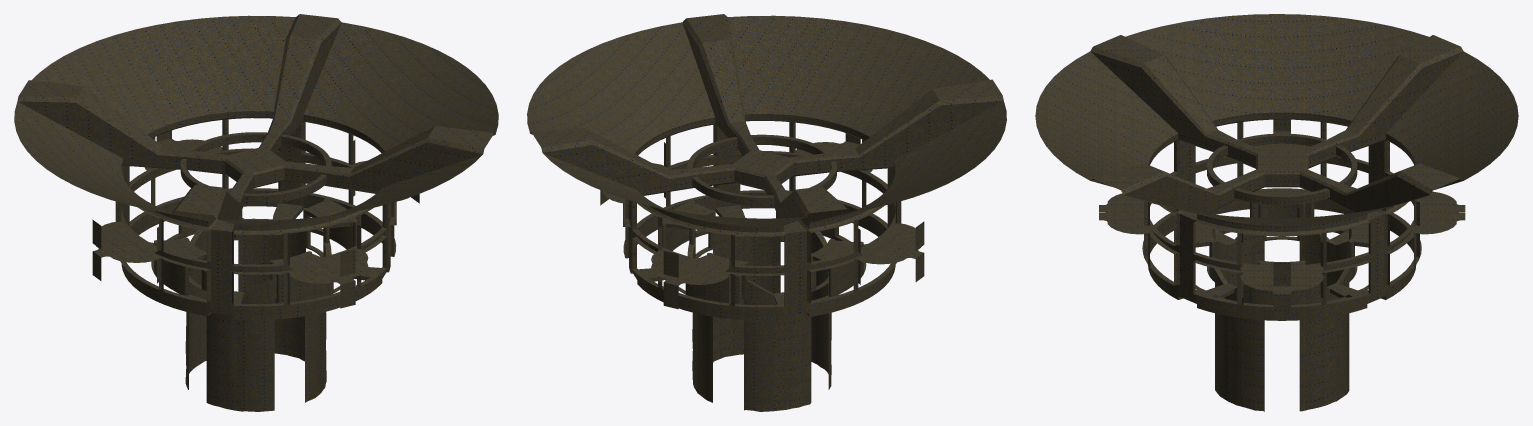
The model's file is Dragonfly_BarrelBattle_Metal.fbx.
3 views of the same model, side by side, from view 1: azimuth 30°, elevation 25°; view 2: azimuth 150°, elevation 25°; view 3: azimuth 270°, elevation 25° (orthographic).
Visible parts, largest first — view 1: Dragonfly_BarrelBattle_Metal; view 2: Dragonfly_BarrelBattle_Metal; view 3: Dragonfly_BarrelBattle_Metal.
Part boxes in pixels (left/top/right/bottom): Dragonfly_BarrelBattle_Metal: left=14, top=14, right=498, bottom=411; Dragonfly_BarrelBattle_Metal: left=527, top=14, right=1006, bottom=411; Dragonfly_BarrelBattle_Metal: left=1035, top=14, right=1518, bottom=411.
Bounding box in the file's own units: 5538 × 3427 × 5538.
